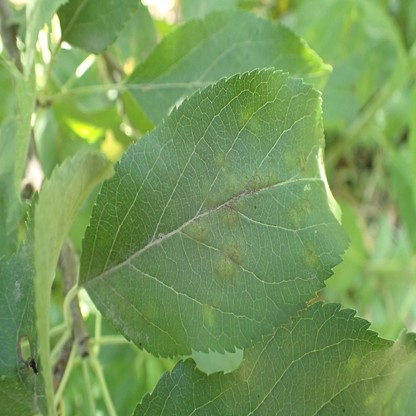powdery_mildew: (107, 309, 150, 341), (18, 239, 30, 257), (14, 280, 21, 303)
scab: (202, 155, 276, 224), (214, 239, 244, 280), (287, 199, 312, 227), (284, 148, 306, 173), (240, 112, 260, 138), (186, 217, 210, 238), (201, 301, 216, 329), (302, 244, 317, 268)
